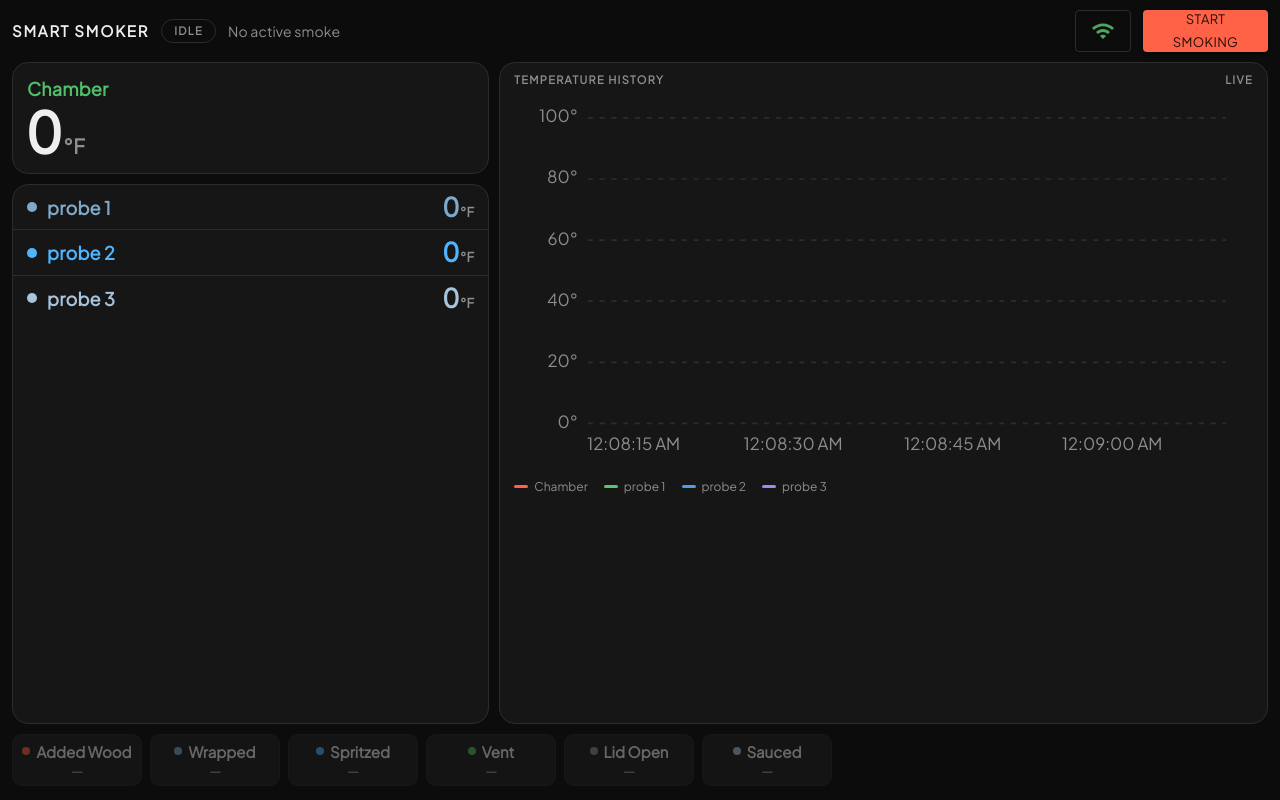
the wifi screen under the shared theme › shows its entry fields and paints its connect action in the dark accent
Click the button named "wifi connected" at (1103, 31), box [1075,10,1131,52]
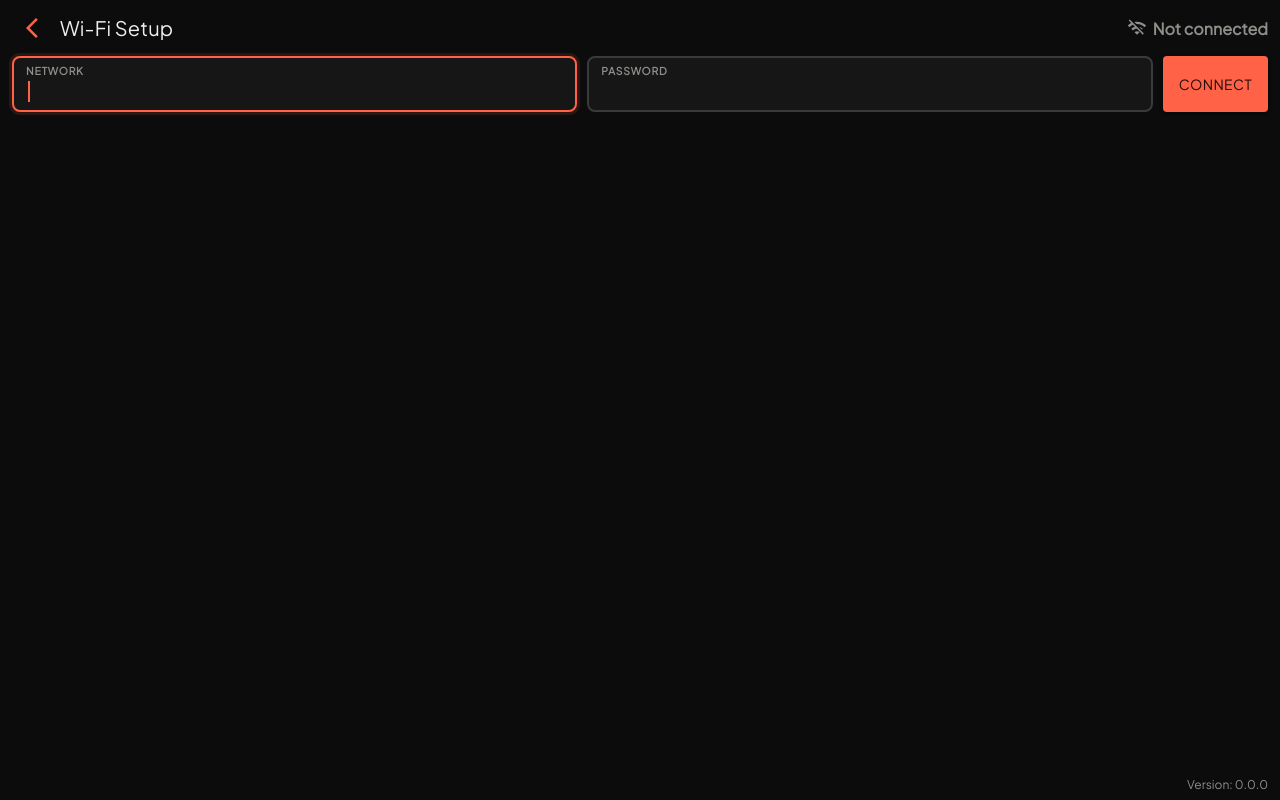
Now the button "NETWORK" is shown, box [12,56,577,112]
Now the button "PASSWORD" is shown, box [587,56,1153,112]
